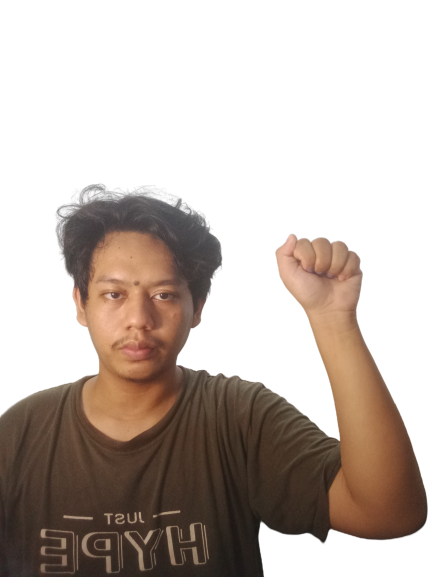A: (274, 228, 372, 310)
